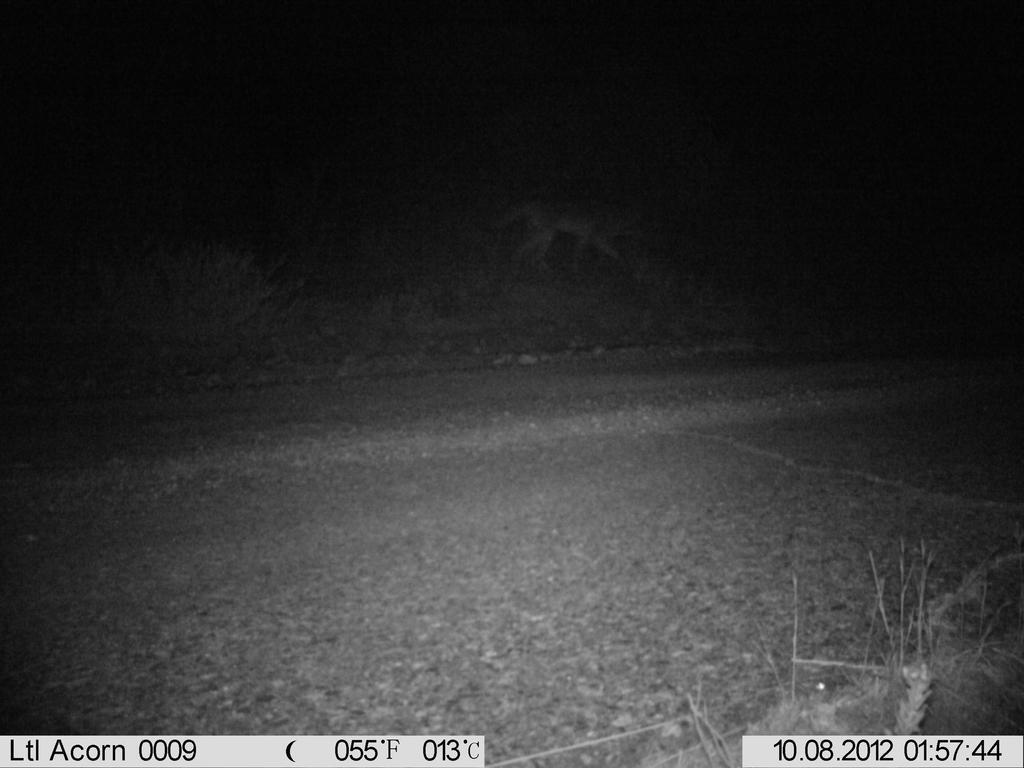coyote: (473, 176, 698, 279)
